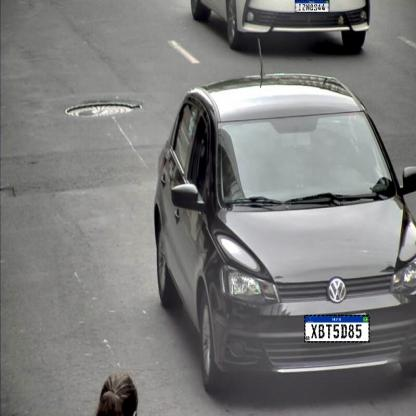PlacaM: (304, 315, 370, 342), (294, 0, 329, 12)
